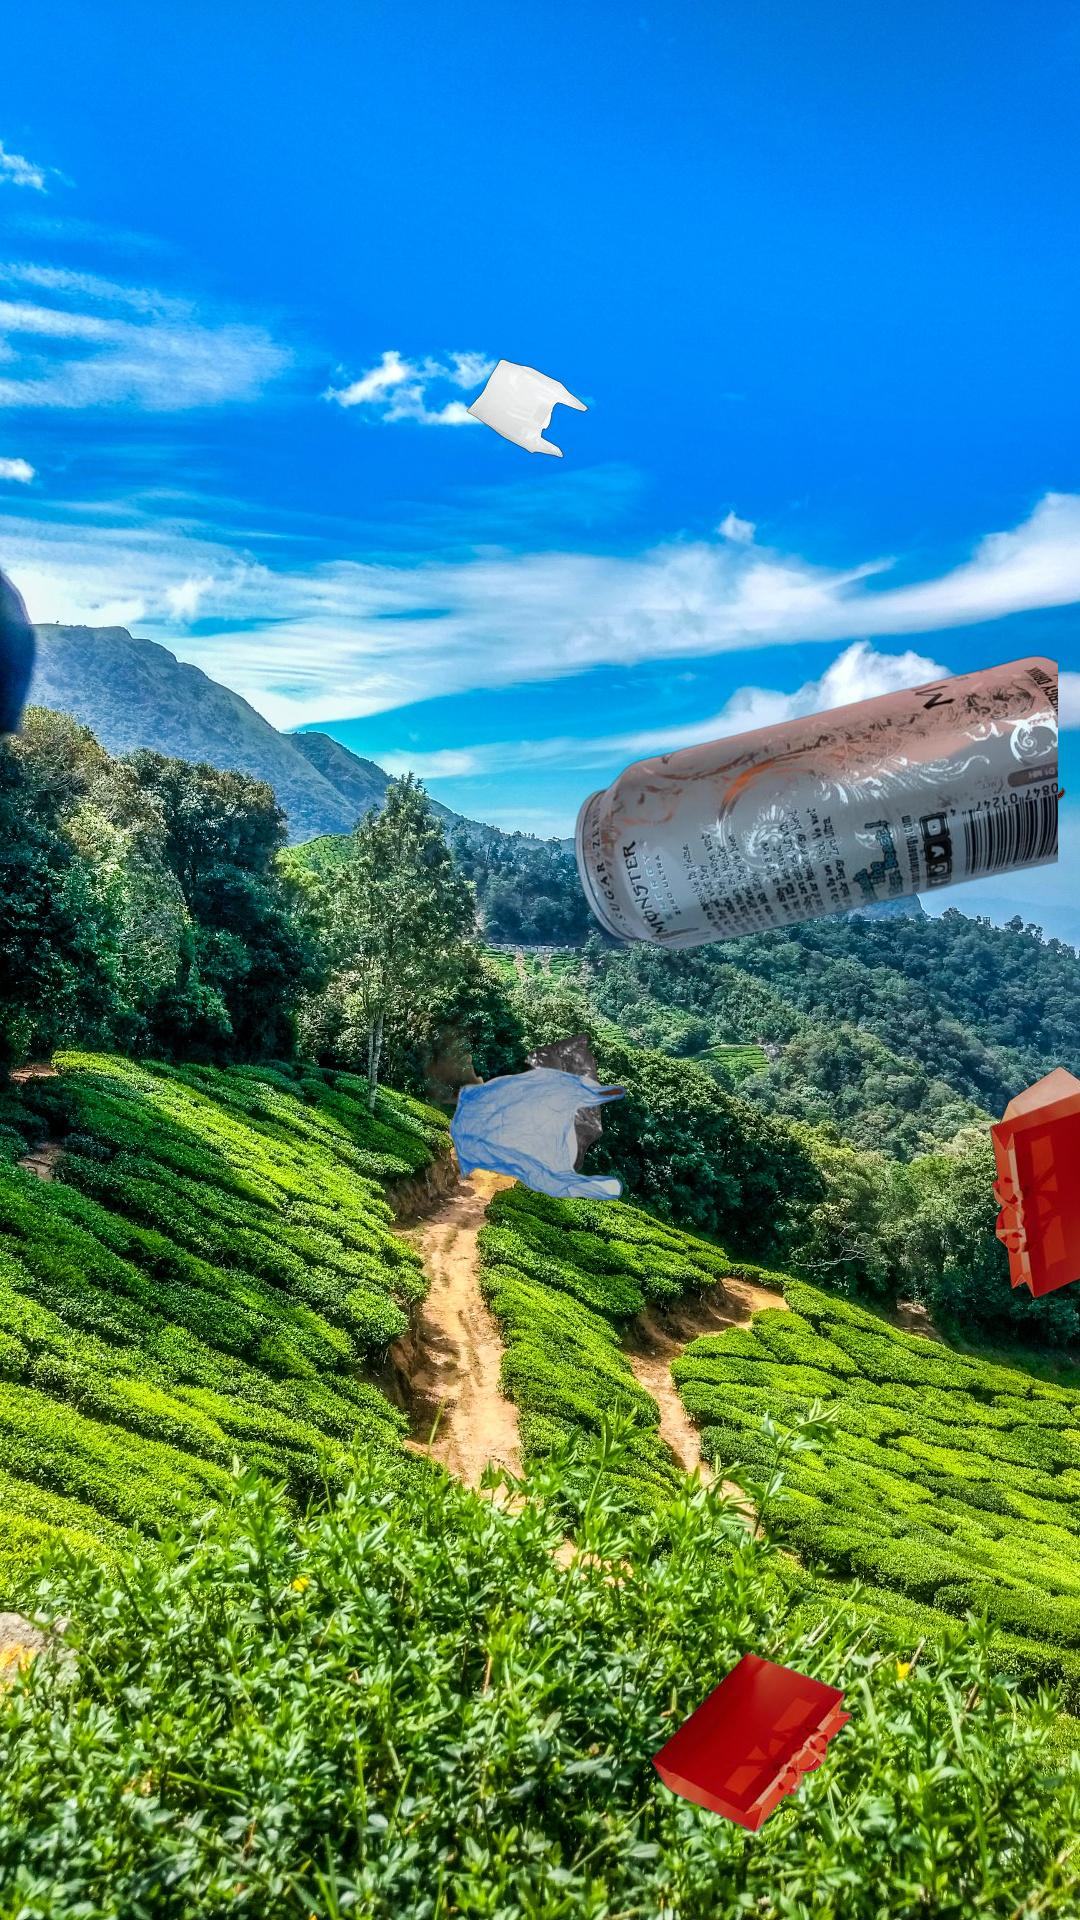biological: (944, 729, 1069, 856)
metal-cans: (570, 653, 1058, 952)
paper-bag: (649, 1648, 855, 1836), (988, 1063, 1080, 1302)
plastic-bag: (309, 357, 608, 644), (398, 990, 628, 1204)
